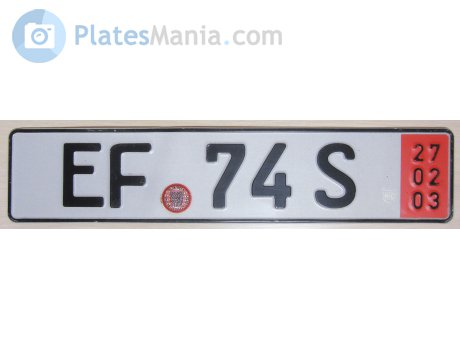License Plates: (30, 133, 372, 212)
